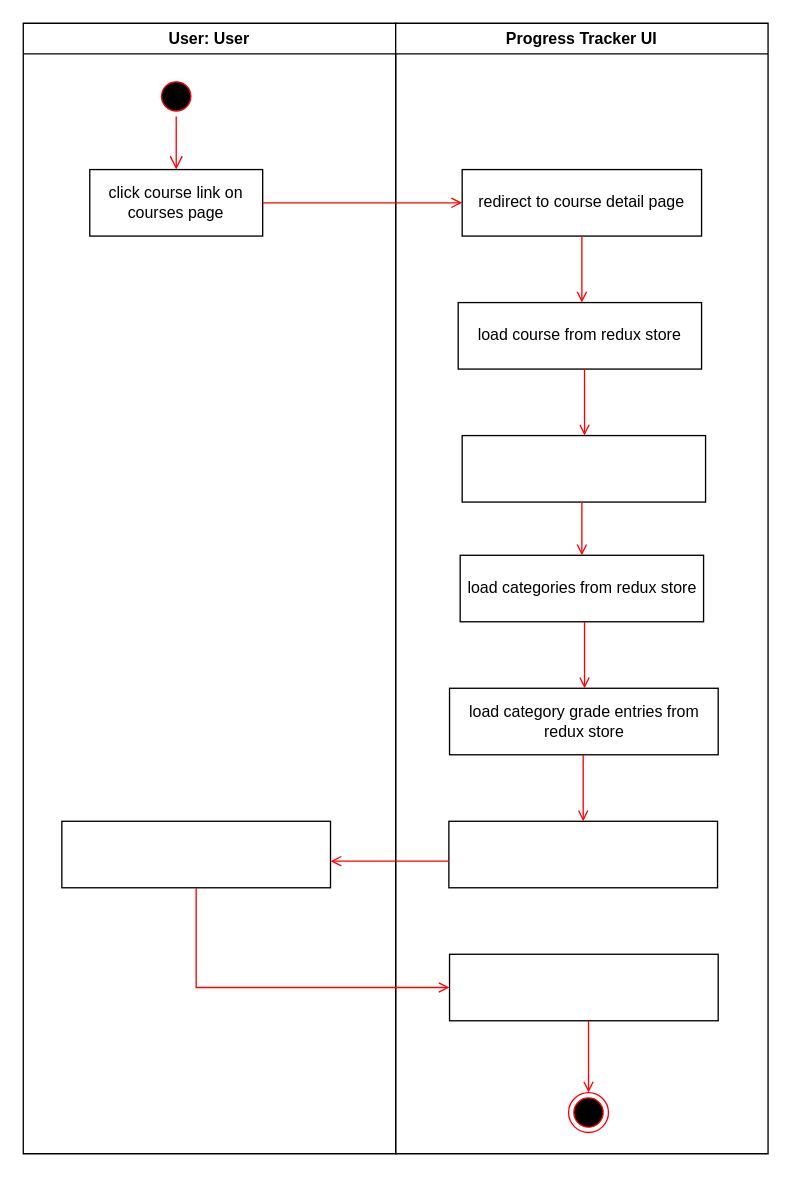
Image size: 791x1177. Some labels were removed from this diagram. The centre of each missing label's shape, as x and y in pixels:
click link to home page: point 196,854
load course instance from redux store: point 583,468
redirect to home page: point 583,987
render course details: point 583,854
